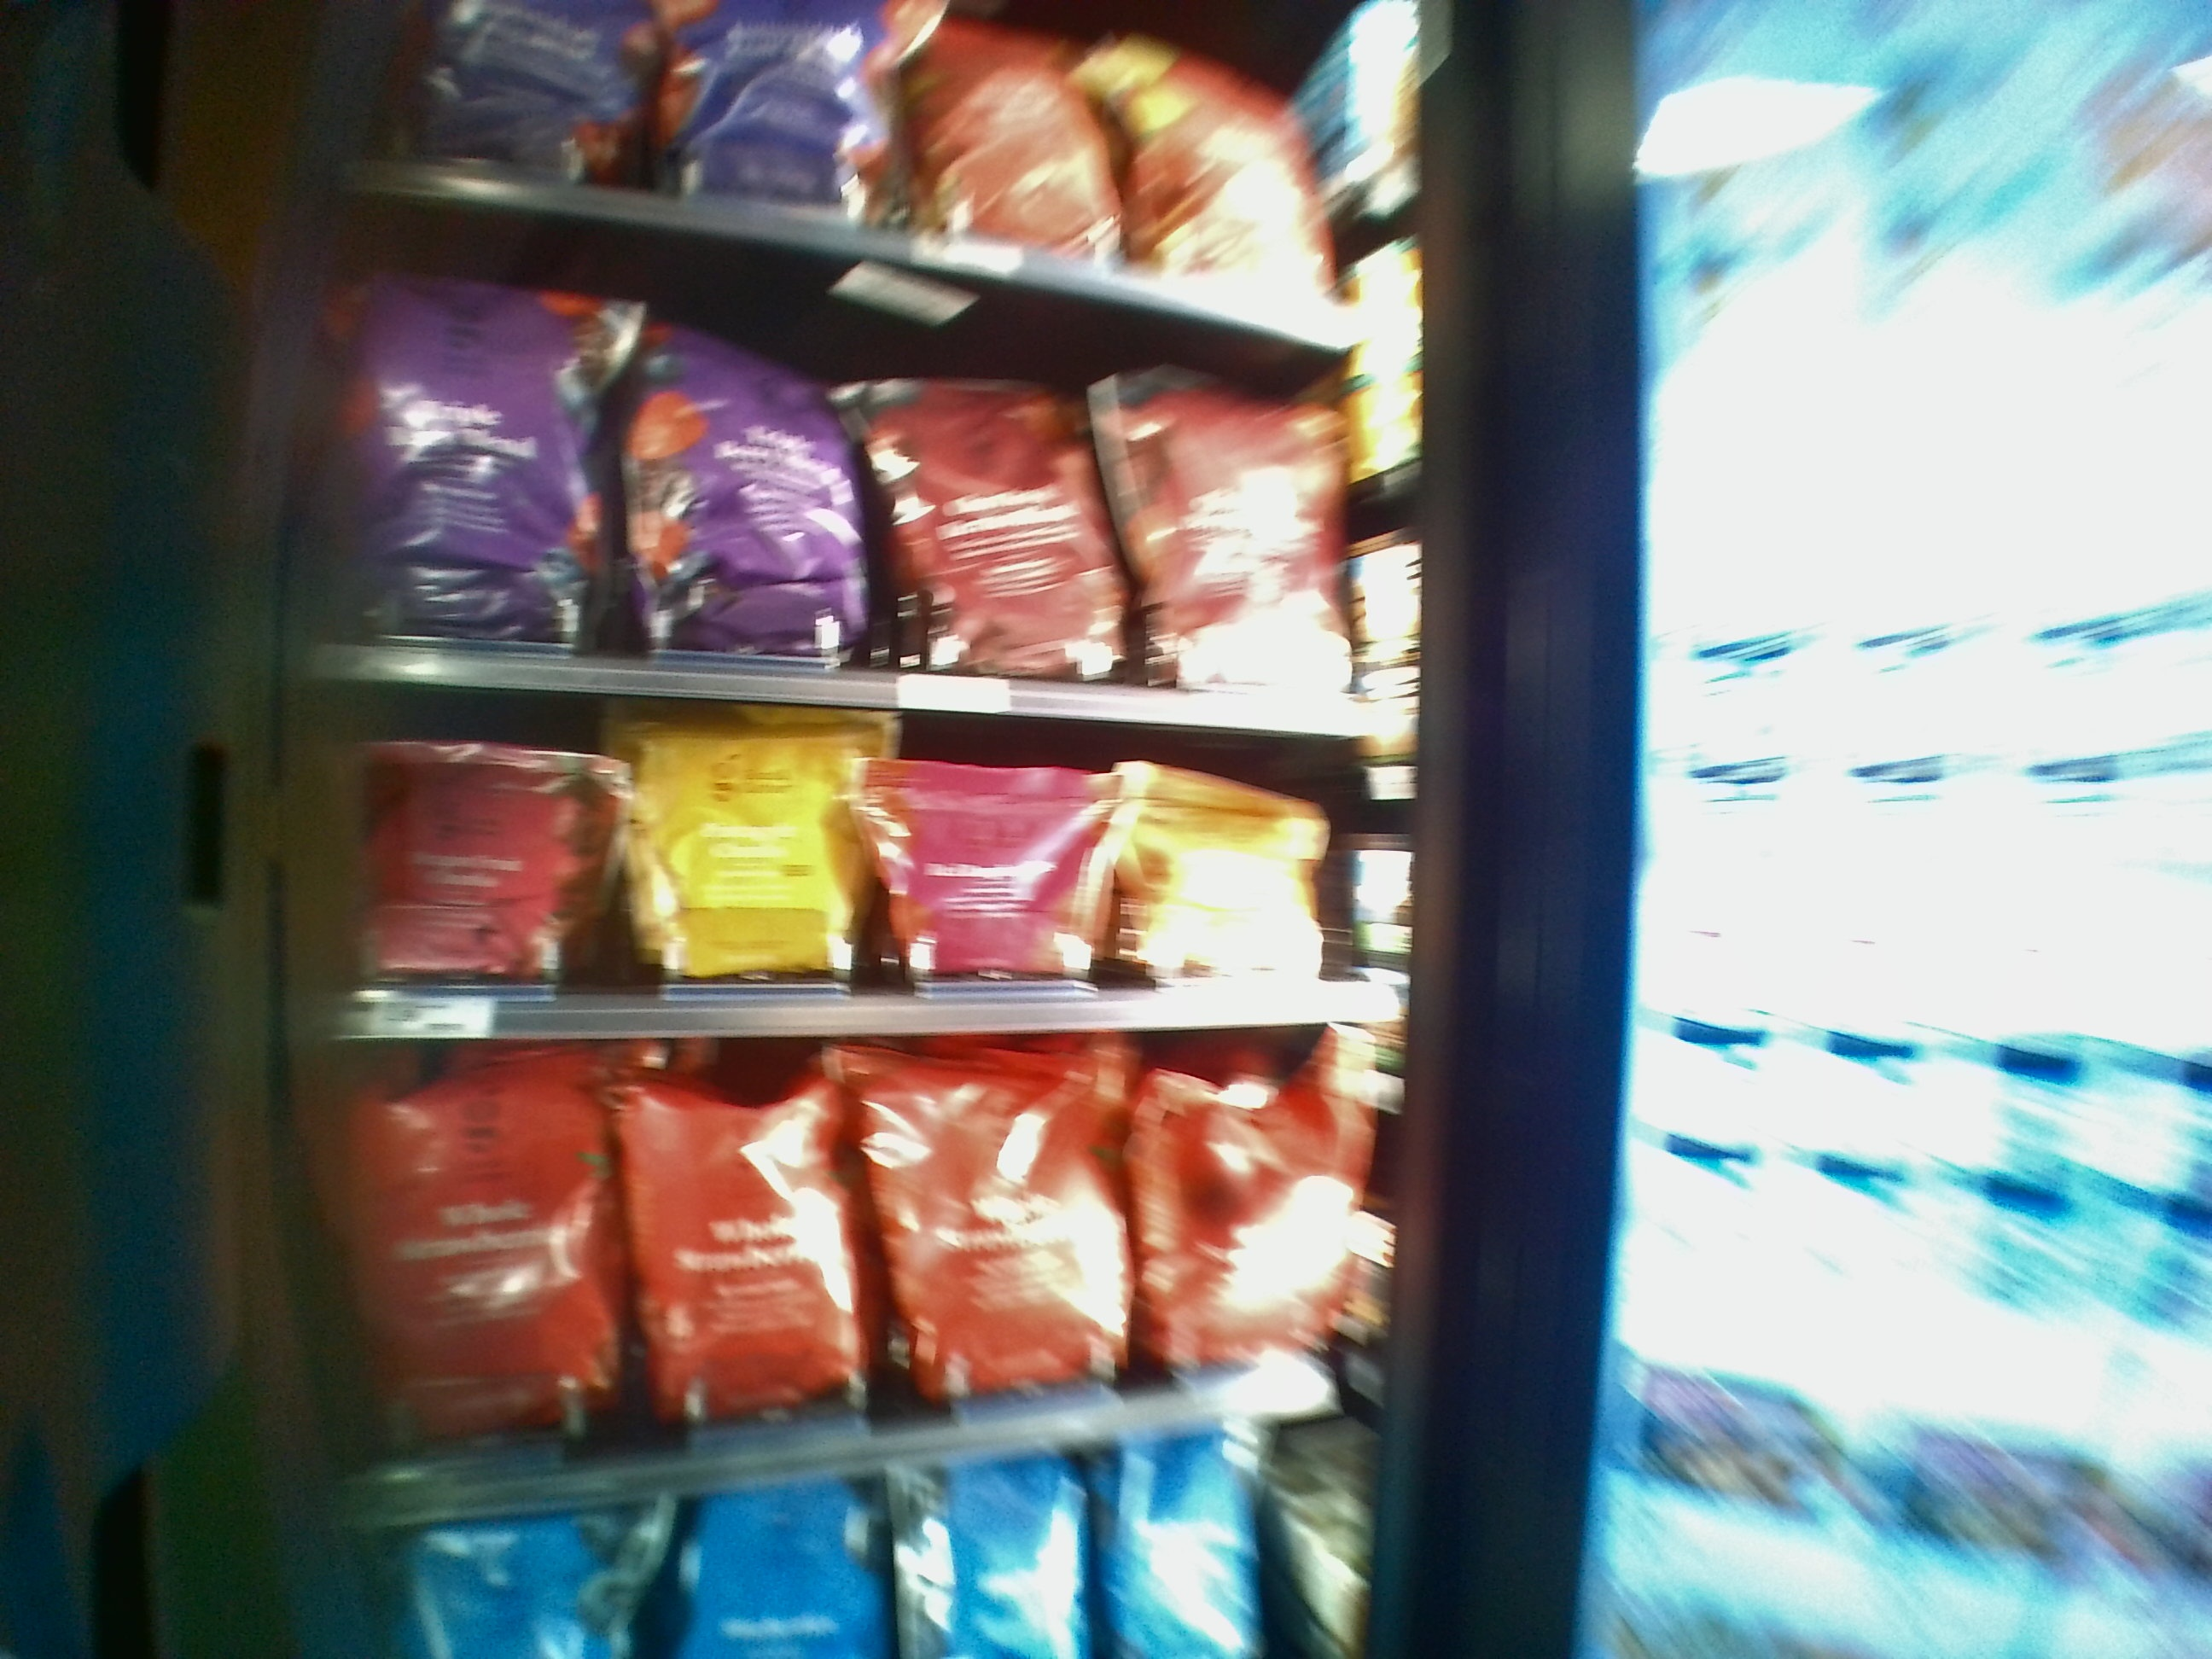shelf: (312, 279, 1409, 716), (340, 1033, 1376, 1471), (327, 708, 1402, 1012)
